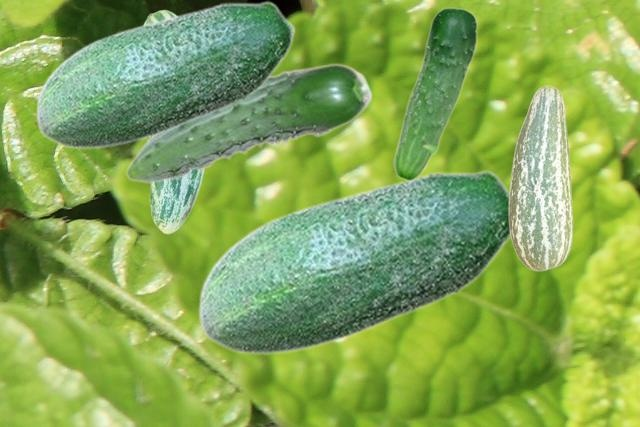cucumber: (197, 169, 510, 354), (35, 0, 295, 148), (125, 63, 372, 182), (392, 7, 477, 180), (143, 9, 203, 233), (508, 85, 572, 270)
